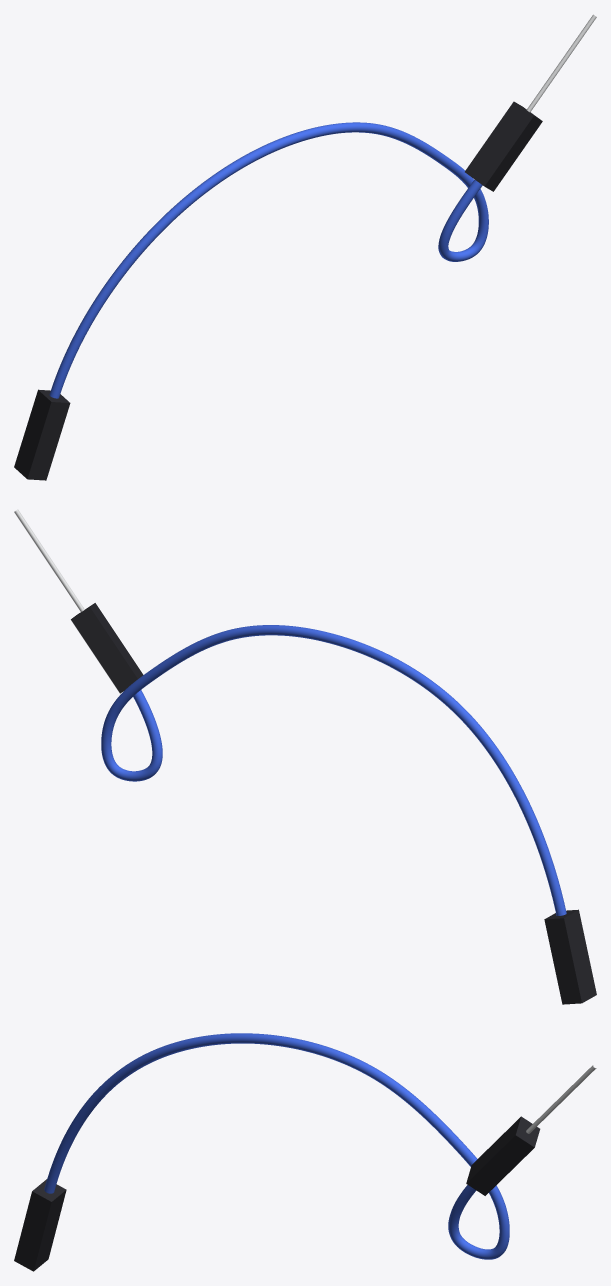
Rendered from jumper_wire.glb.
3 views of the same model, one above another, from view 1: azimuth 30°, elevation 25°; view 2: azimuth 150°, elevation 25°; view 3: azimuth 330°, elevation 25° (orthographic). The views are drawn at different scales.
Bounding box in the file's own units: 12.89 × 7.29 × 0.9718.
